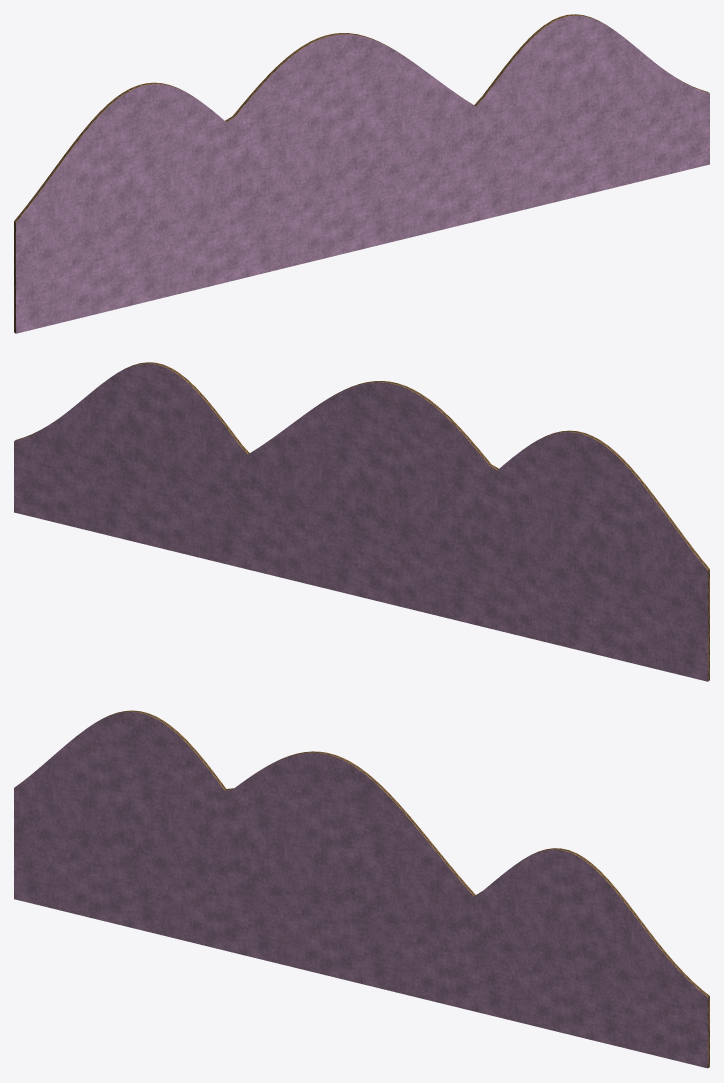
The model's file is hill_backdrop_far_dusk.gltf.
3 views of the same model, one above another, from view 1: azimuth 30°, elevation 25°; view 2: azimuth 150°, elevation 25°; view 3: azimuth 330°, elevation 25° (orthographic).
Visible parts, largest first — view 1: hill_backdrop_far_dusk; view 2: hill_backdrop_far_dusk; view 3: hill_backdrop_far_dusk.
Part boxes in pixels (x1,y1,x2,y2): hill_backdrop_far_dusk: [14, 14, 709, 333]; hill_backdrop_far_dusk: [14, 362, 709, 681]; hill_backdrop_far_dusk: [14, 710, 709, 1068].
Bounding box in the file's own units: 12 × 3.65 × 0.06.
2 materials, 2 textured.
